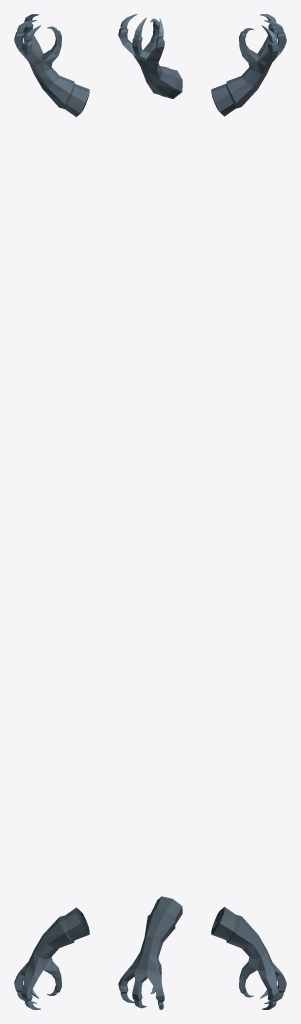
File: mediumBowDragonTip.glb
3 views of the same model, side by side, from view 1: azimuth 90°, elevation 25°; view 2: azimuth 150°, elevation 25°; view 3: azimuth 270°, elevation 25° (orthographic).
Visible parts, largest first — view 1: mediumBowDragonTip; view 2: mediumBowDragonTip; view 3: mediumBowDragonTip.
Boxes of the visible parts, left/top/right/bottom form: mediumBowDragonTip: left=14, top=14, right=89, bottom=1009; mediumBowDragonTip: left=118, top=14, right=182, bottom=1009; mediumBowDragonTip: left=211, top=14, right=286, bottom=1009.
Bounding box in the file's own units: 0.0816 × 1.65 × 0.1143.
